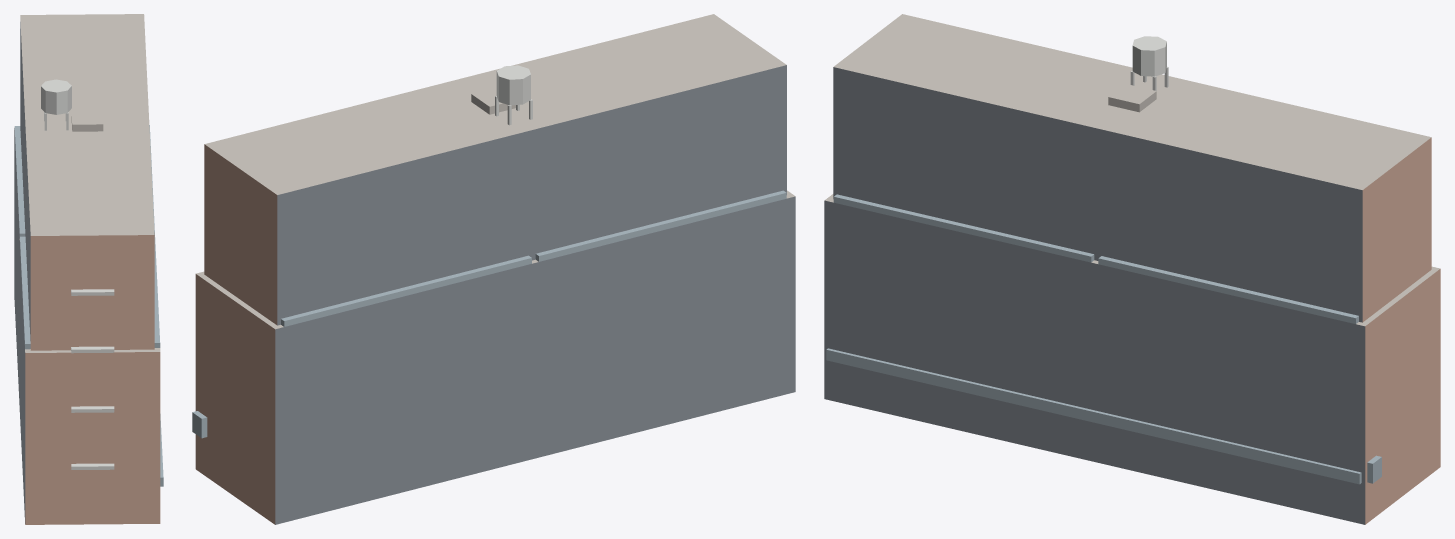
The model's file is doitt-498980__lod_1.glb.
The picture shows the model from 3 angles, left to right: view 1: azimuth 30°, elevation 25°; view 2: azimuth 150°, elevation 25°; view 3: azimuth 270°, elevation 25°; orthographic projection. The views are drawn at different scales.
Size of the model in its own units: 21.01 by 20.02 by 29.7.
